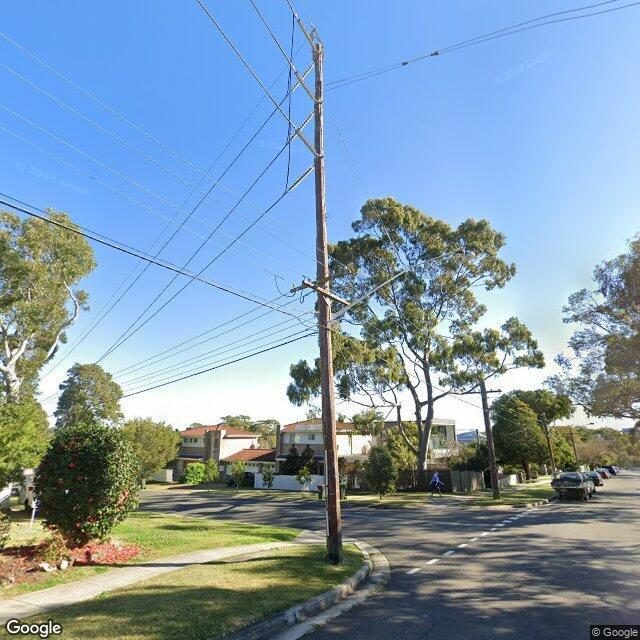HV-transmission: (285, 14, 323, 193)
crossarm: (290, 270, 351, 294), (302, 280, 351, 306), (562, 432, 584, 434)
streetlight: (330, 249, 476, 322), (572, 422, 594, 433)
timber-pole: (312, 43, 342, 566), (542, 413, 556, 478), (570, 428, 579, 471)
